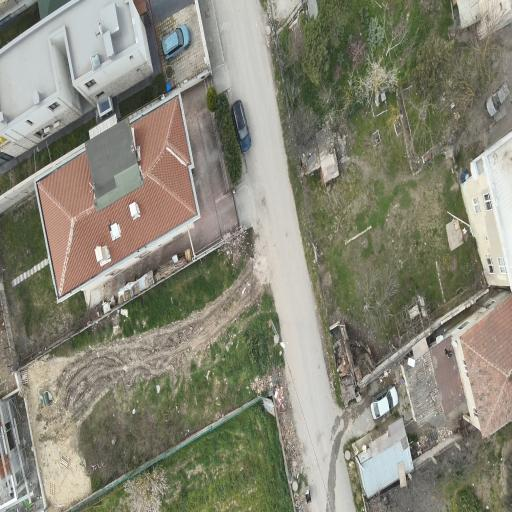car: (162, 25, 191, 60), (232, 100, 251, 152), (370, 386, 398, 419), (485, 82, 509, 117)
